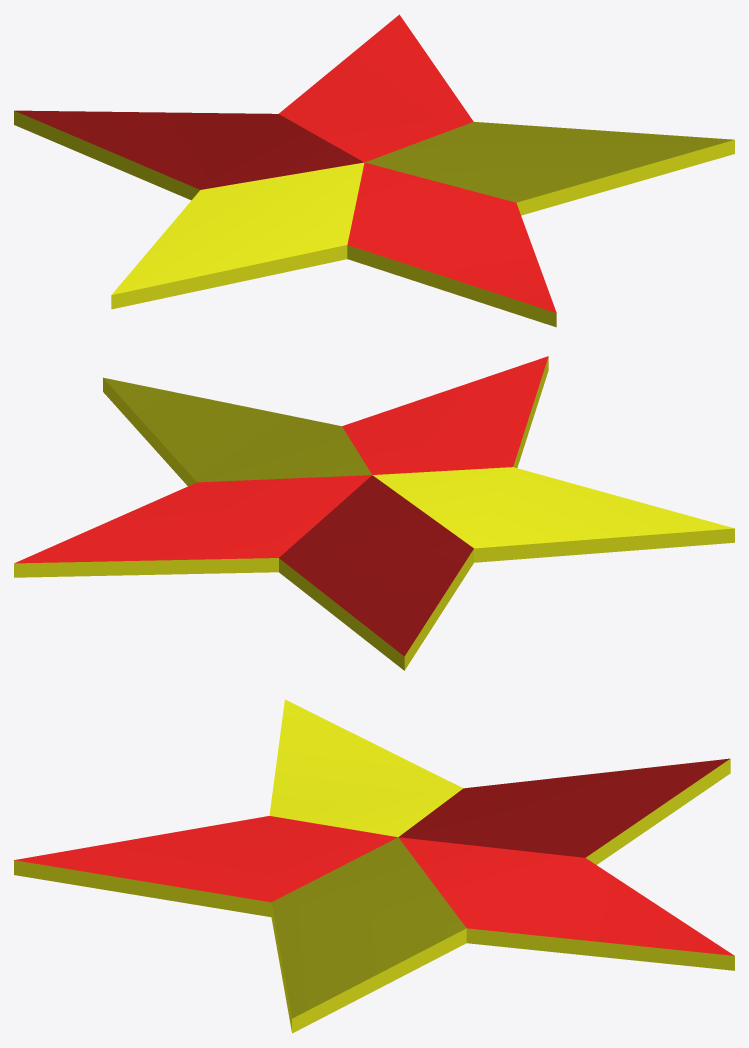
Rendered from China - Yellow_Red Star Confetti 2.FBX.
3 renders of one model, top to bottom at view 1: azimuth 30°, elevation 25°; view 2: azimuth 150°, elevation 25°; view 3: azimuth 270°, elevation 25°, orthographic. The views are drawn at different scales.
Visible parts, largest first — view 1: Star001; view 2: Star001; view 3: Star001.
Part boxes in pixels (left/top/right/bottom): Star001: left=14, top=14, right=734, bottom=327; Star001: left=14, top=356, right=734, bottom=670; Star001: left=14, top=699, right=734, bottom=1033.
Bounding box in the file's own units: 45.94 × 43.83 × 2.26.
